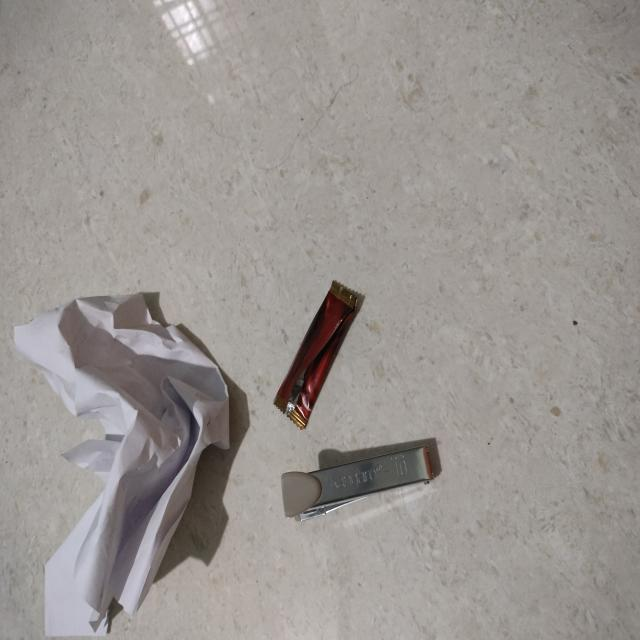metal: (280, 442, 433, 524)
paper: (14, 293, 230, 640)
plastic: (272, 280, 364, 430)
